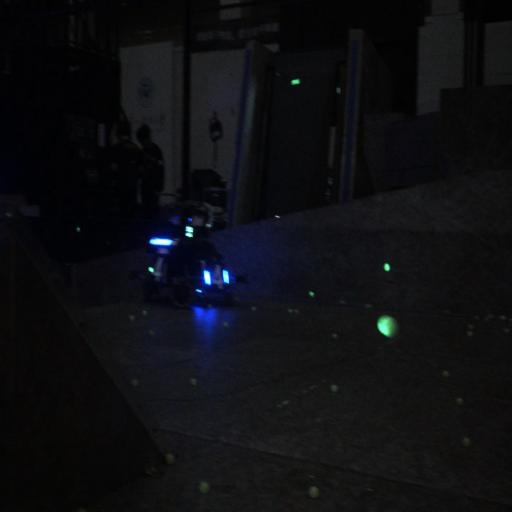target: (202, 255, 232, 298), (148, 248, 168, 290)
